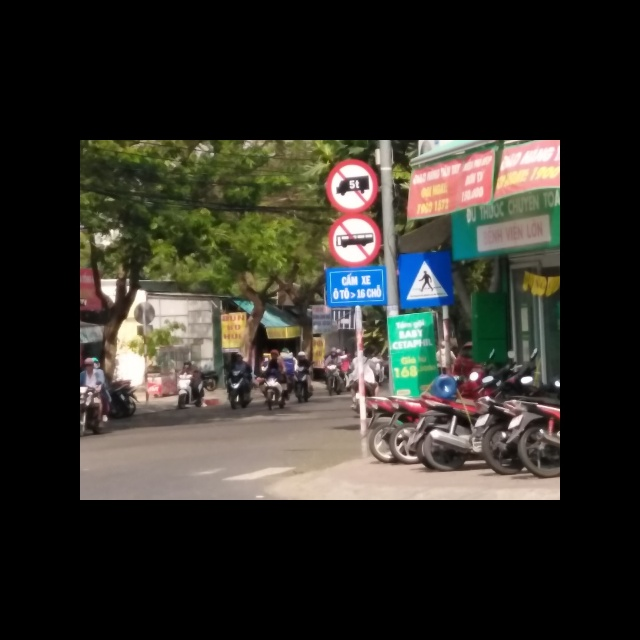Cấm xe tải: (324, 159, 377, 213)
Cấm xe xe khách: (326, 213, 381, 267)
Đường dành cho người đi bộ: (397, 253, 456, 306)
